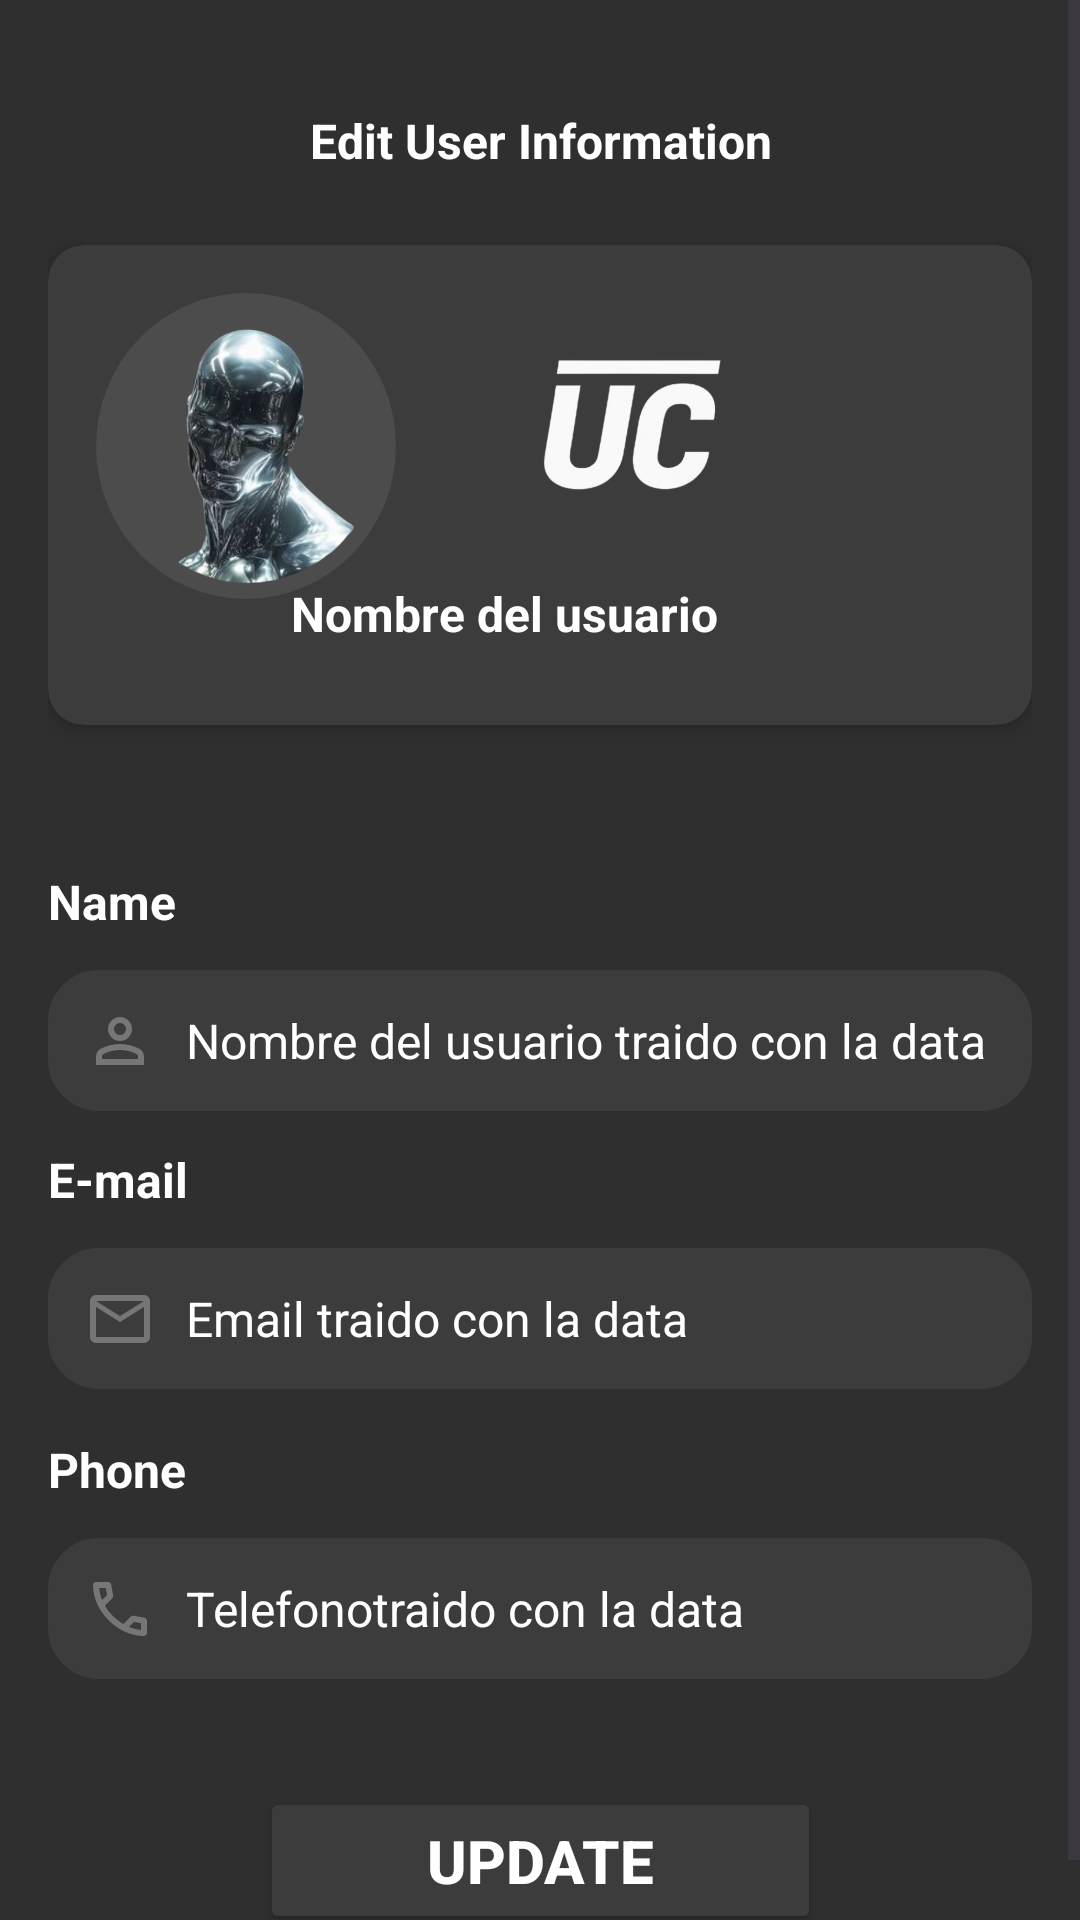

Icons on this 1080px×1920px Android screen, each with the point to tap as point (x, y):
profile: point (246, 446)
